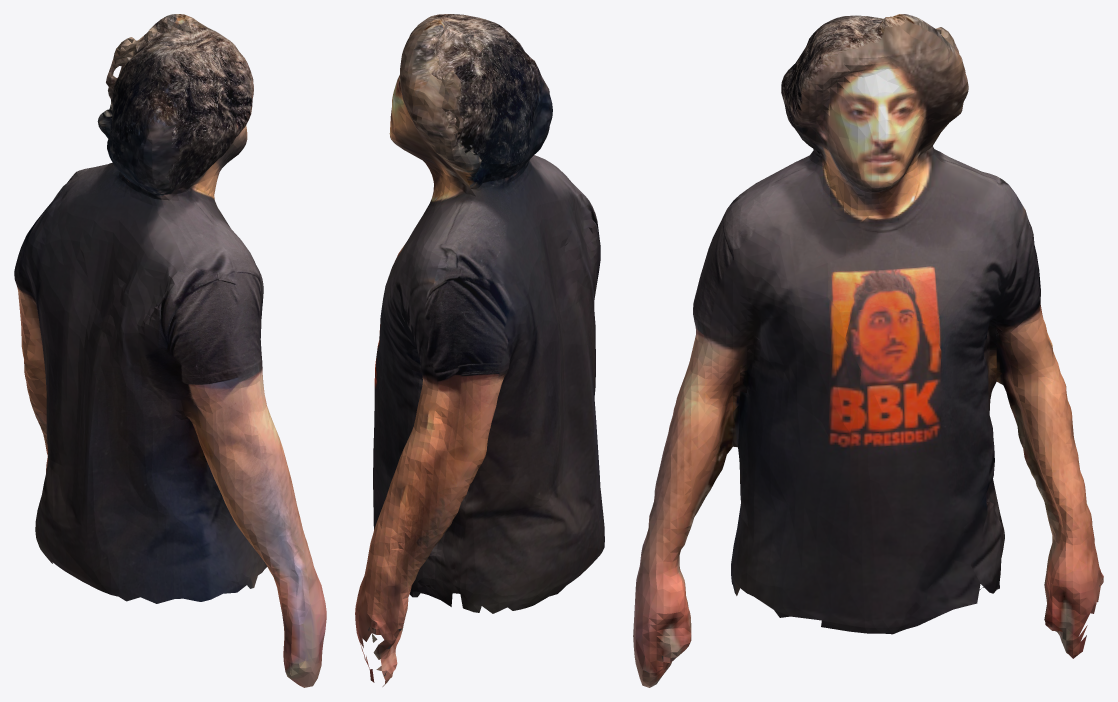
The model's file is asset.glb.
3 views of the same model, side by side, from view 1: azimuth 30°, elevation 25°; view 2: azimuth 150°, elevation 25°; view 3: azimuth 270°, elevation 25° (orthographic). The views are drawn at different scales.
Parts seen in each view (by area): view 1: mesh; view 2: mesh; view 3: mesh.
Boxes of the visible parts, x1,y1,x2,y2 form: mesh: (14,14,326,687); mesh: (355,14,604,686); mesh: (633,14,1103,687).
Size of the model in its own units: 0.2948 by 0.8509 by 0.5472.
1 material, 1 textured.
